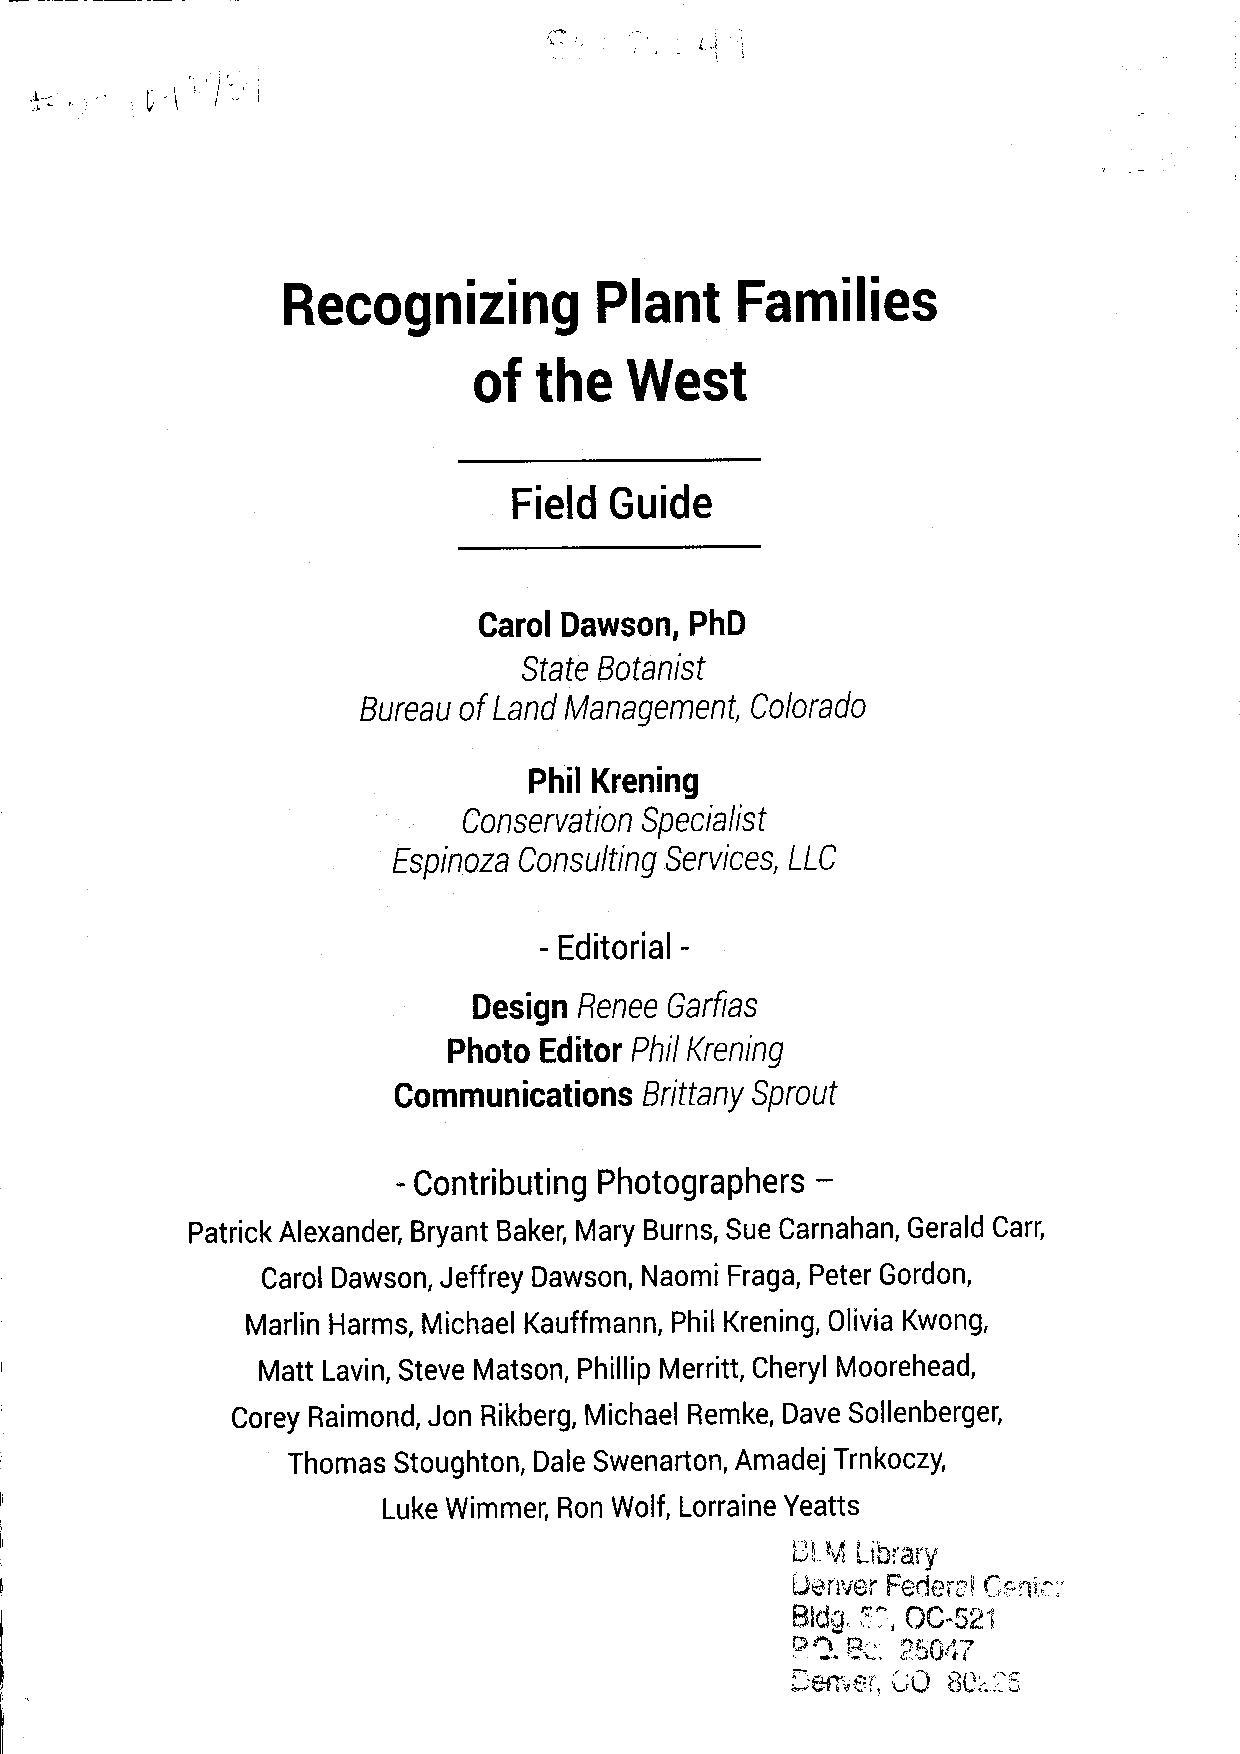author: (356, 607, 868, 880)
title: (280, 274, 939, 407)
